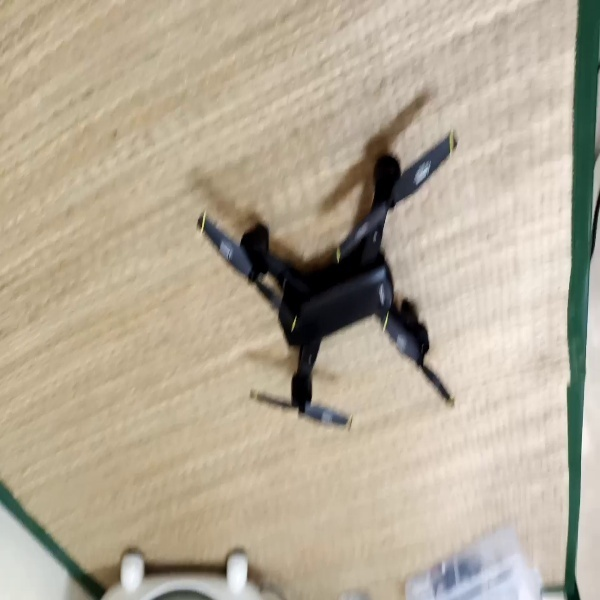drone: (195, 124, 464, 432)
